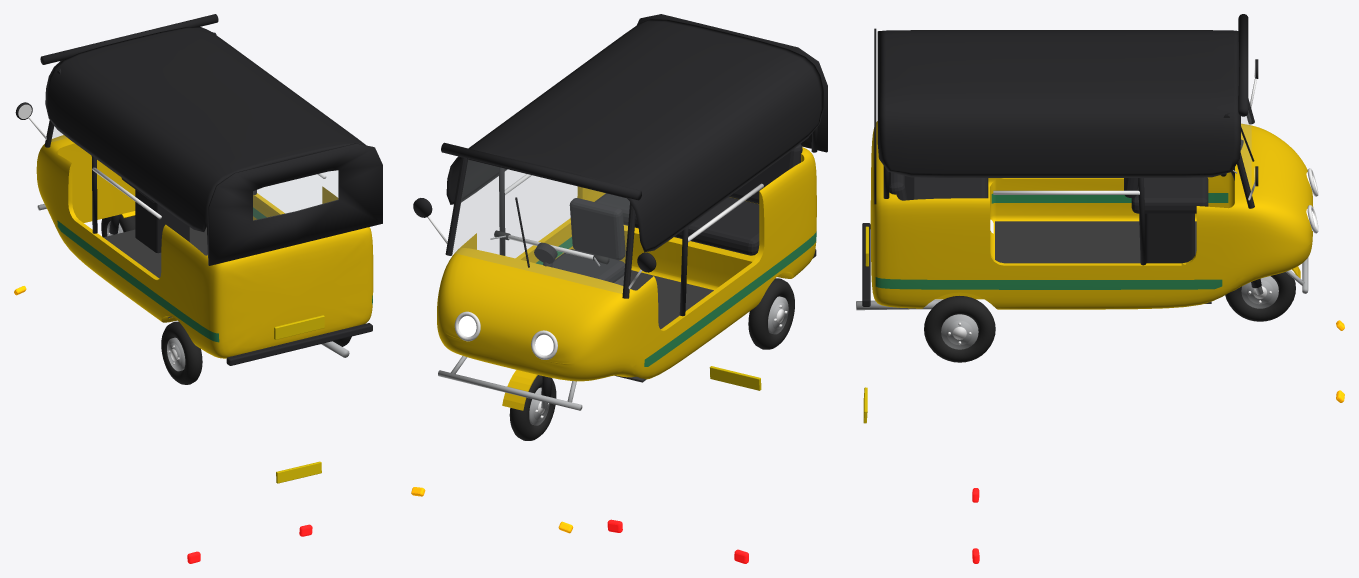
File: auto_rickshaw.glb
3 renders of one model, left to right at view 1: azimuth 30°, elevation 25°; view 2: azimuth 150°, elevation 25°; view 3: azimuth 270°, elevation 25°, orthographic. The views are drawn at different scales.
Parts seen in each view (by area): view 1: auto_body, wheel_rear_left; view 2: auto_body, wheel_rear_left, wheel_front; view 3: auto_body, wheel_rear_right, wheel_front.
Boxes of the visible parts, x1,y1,x2,y2 form: auto_body: [14, 14, 382, 563]; wheel_rear_left: [161, 321, 202, 384]; auto_body: [411, 14, 827, 563]; wheel_rear_left: [748, 278, 794, 349]; wheel_front: [509, 375, 556, 440]; auto_body: [856, 14, 1344, 563]; wheel_rear_right: [924, 296, 995, 362]; wheel_front: [1225, 272, 1295, 321].
Bounding box in the file's own units: 1.64 × 3.11 × 2.93.
